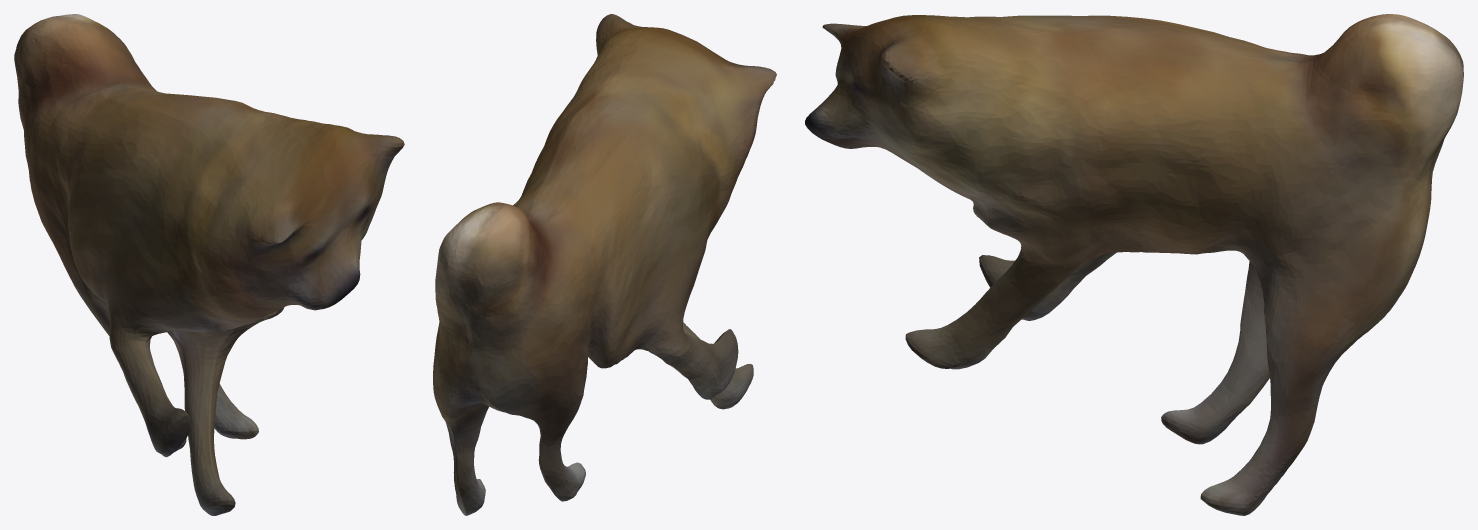
File: shiba-haru-1002-mesh-00013.obj
3 renders of one model, left to right at view 1: azimuth 30°, elevation 25°; view 2: azimuth 150°, elevation 25°; view 3: azimuth 270°, elevation 25°, orthographic. The views are drawn at different scales.
Size of the model in its own units: 0.0367 by 0.0762 by 0.0963.
